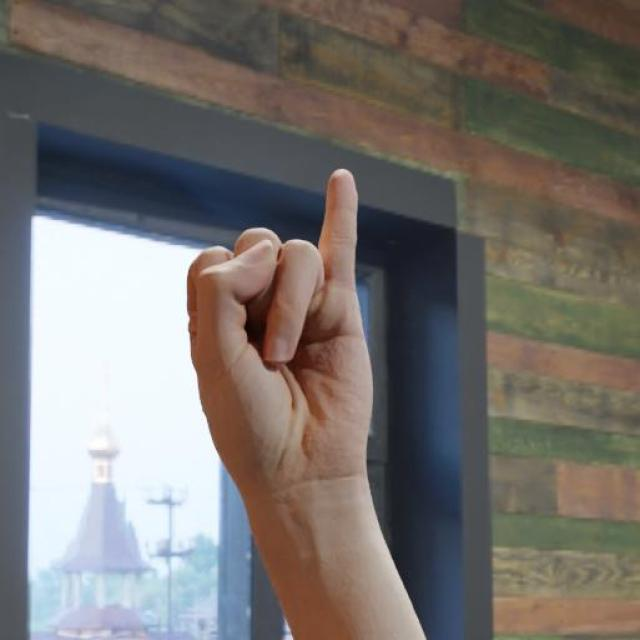I: (185, 165, 374, 486)
